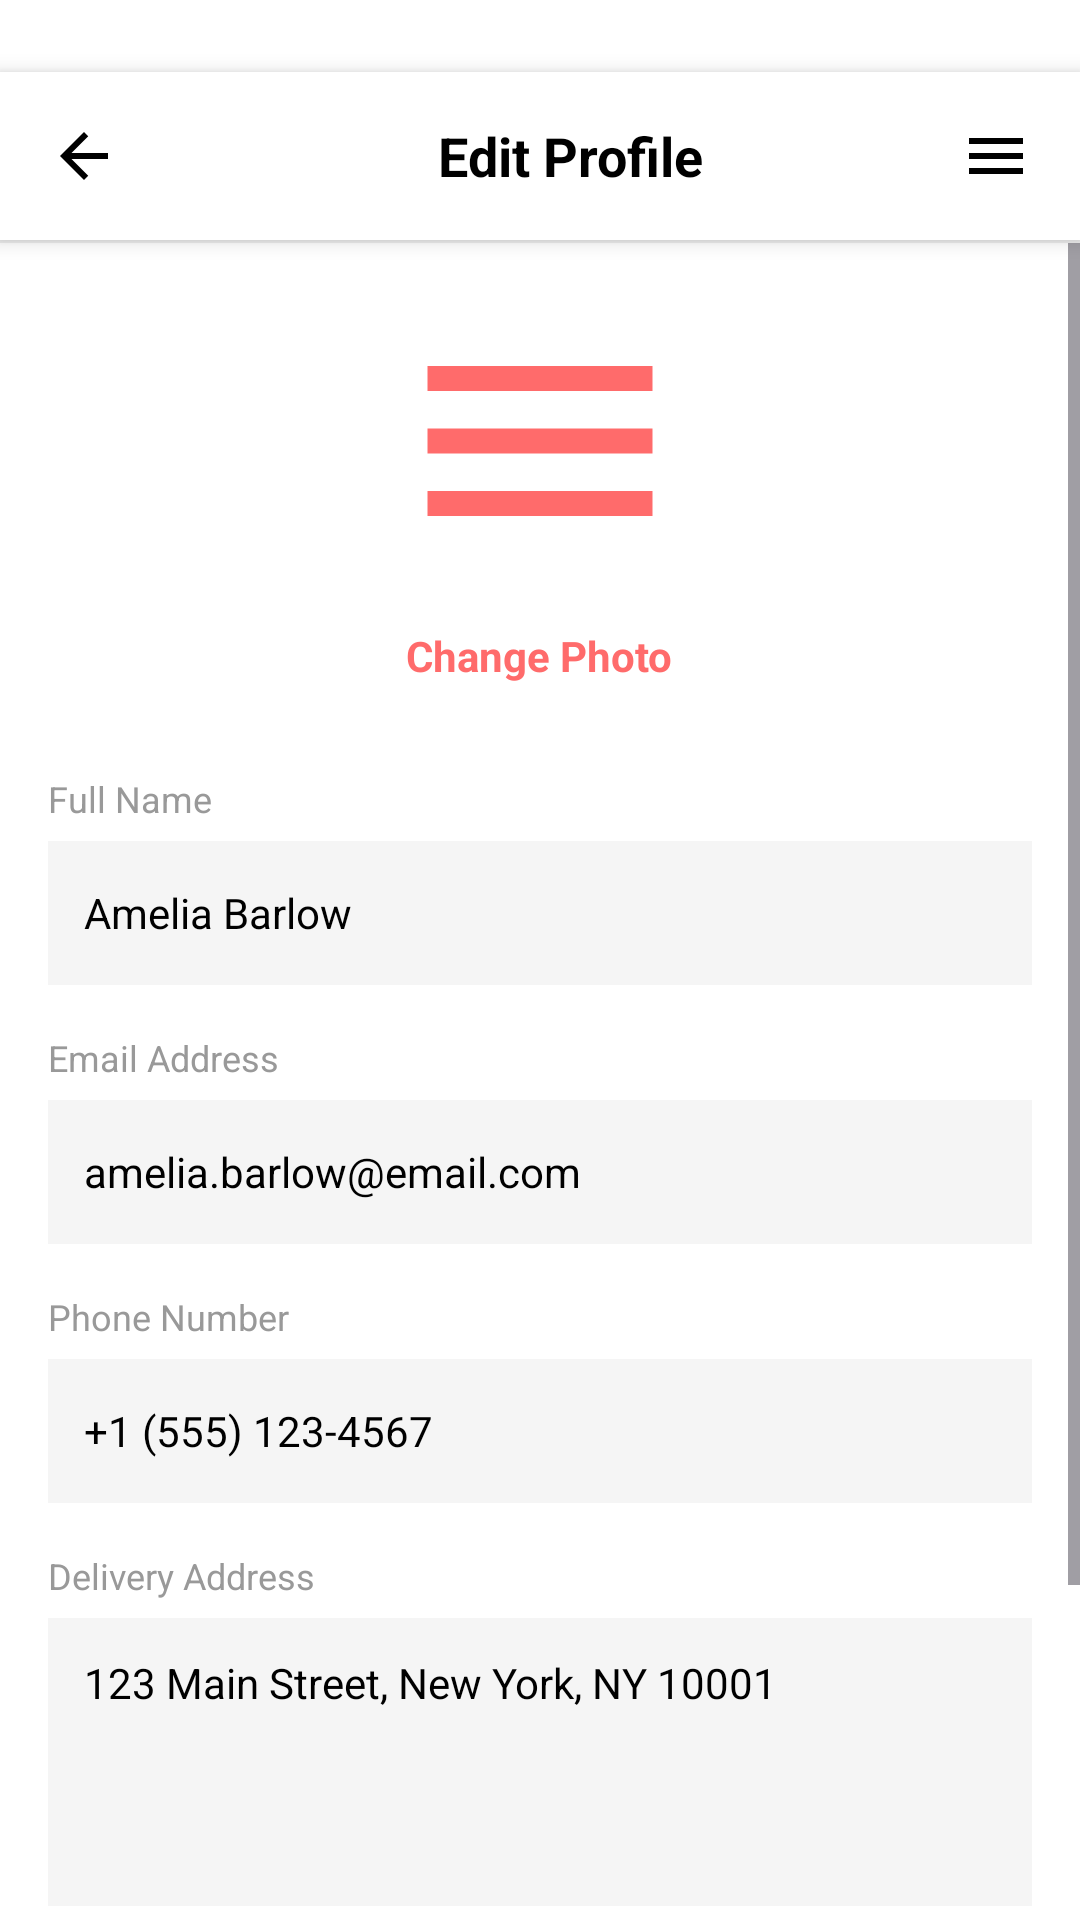

Icon bounding boxes for this 1080 x 1920 phone screenshot, format (x1, y1, x2, y2):
Back: (60, 132, 108, 180)
More: (969, 138, 1023, 174)
